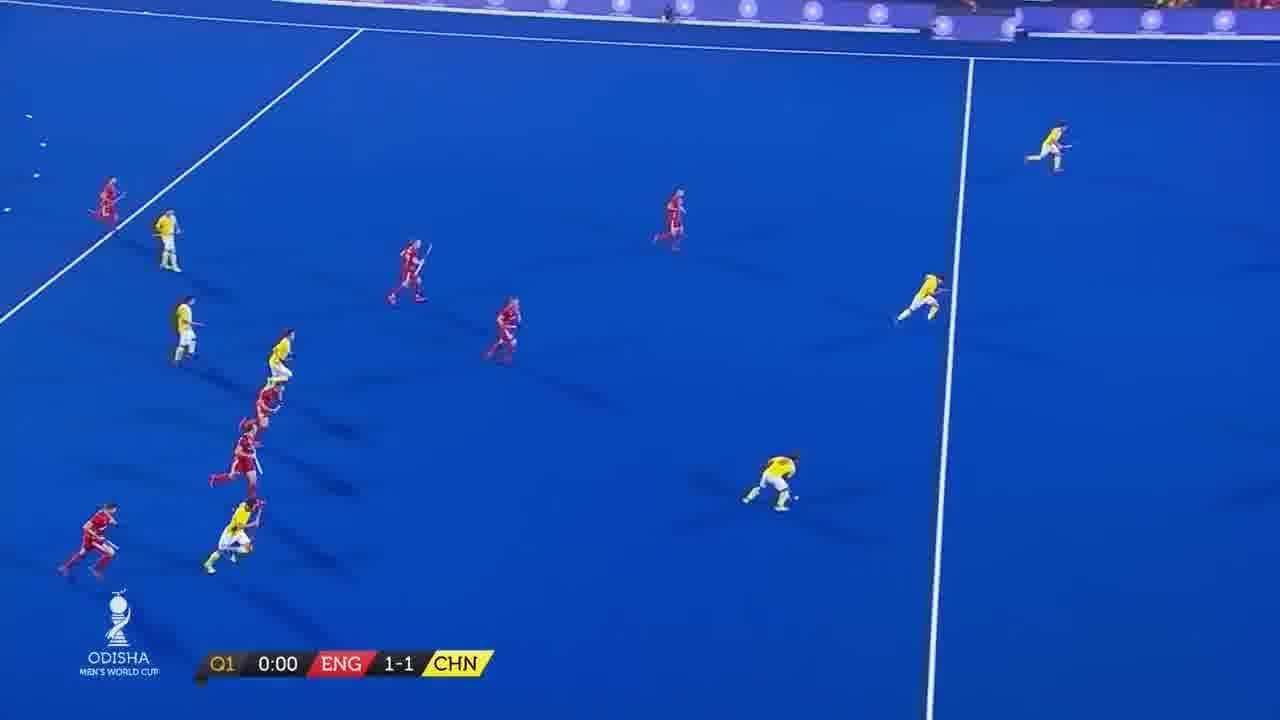ball: (787, 490, 804, 507)
